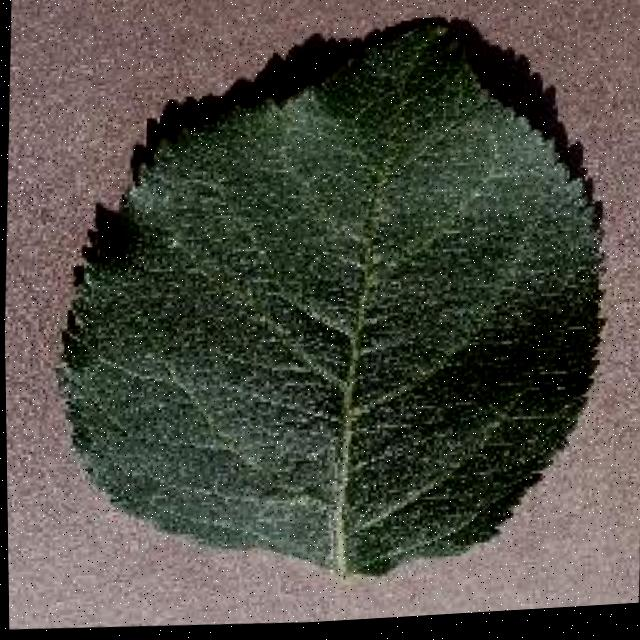healthy: (40, 0, 630, 619)
